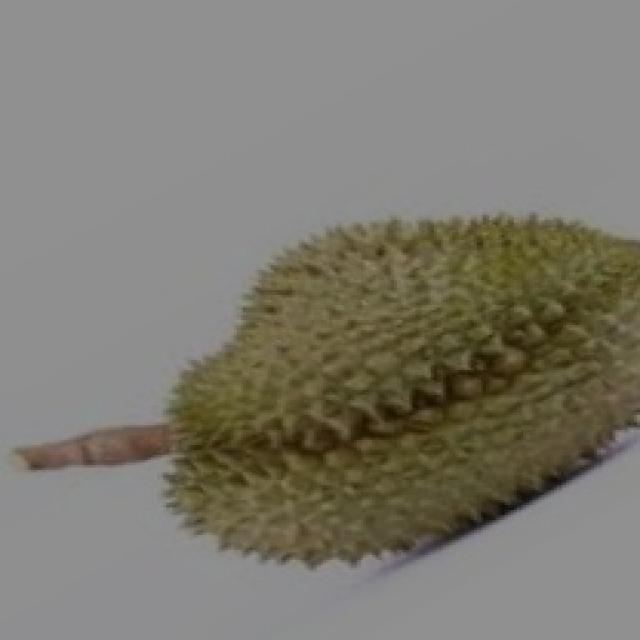fruit: (212, 188, 637, 632)
